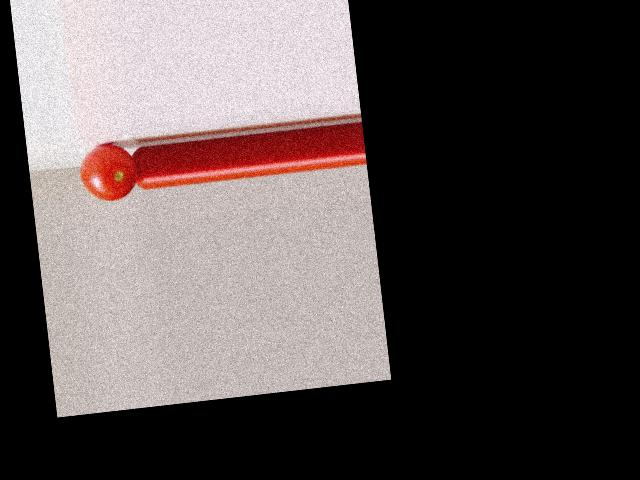tomato: (77, 141, 139, 203)
